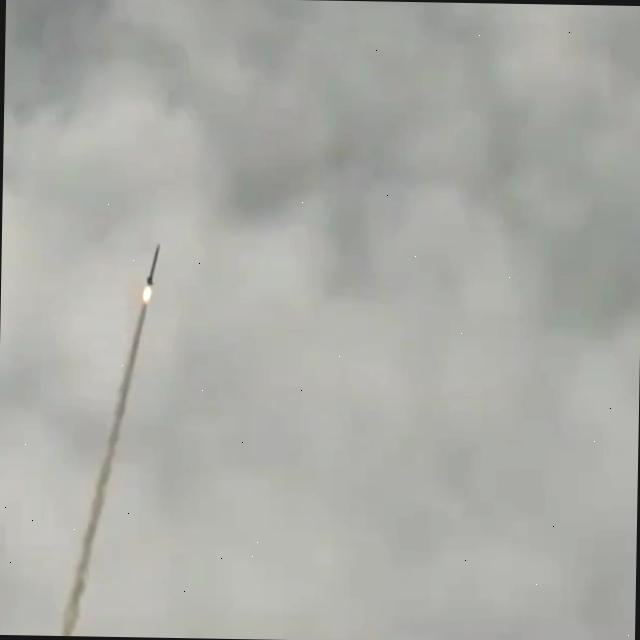smoke_trail_with_rocket: (58, 244, 159, 636)
